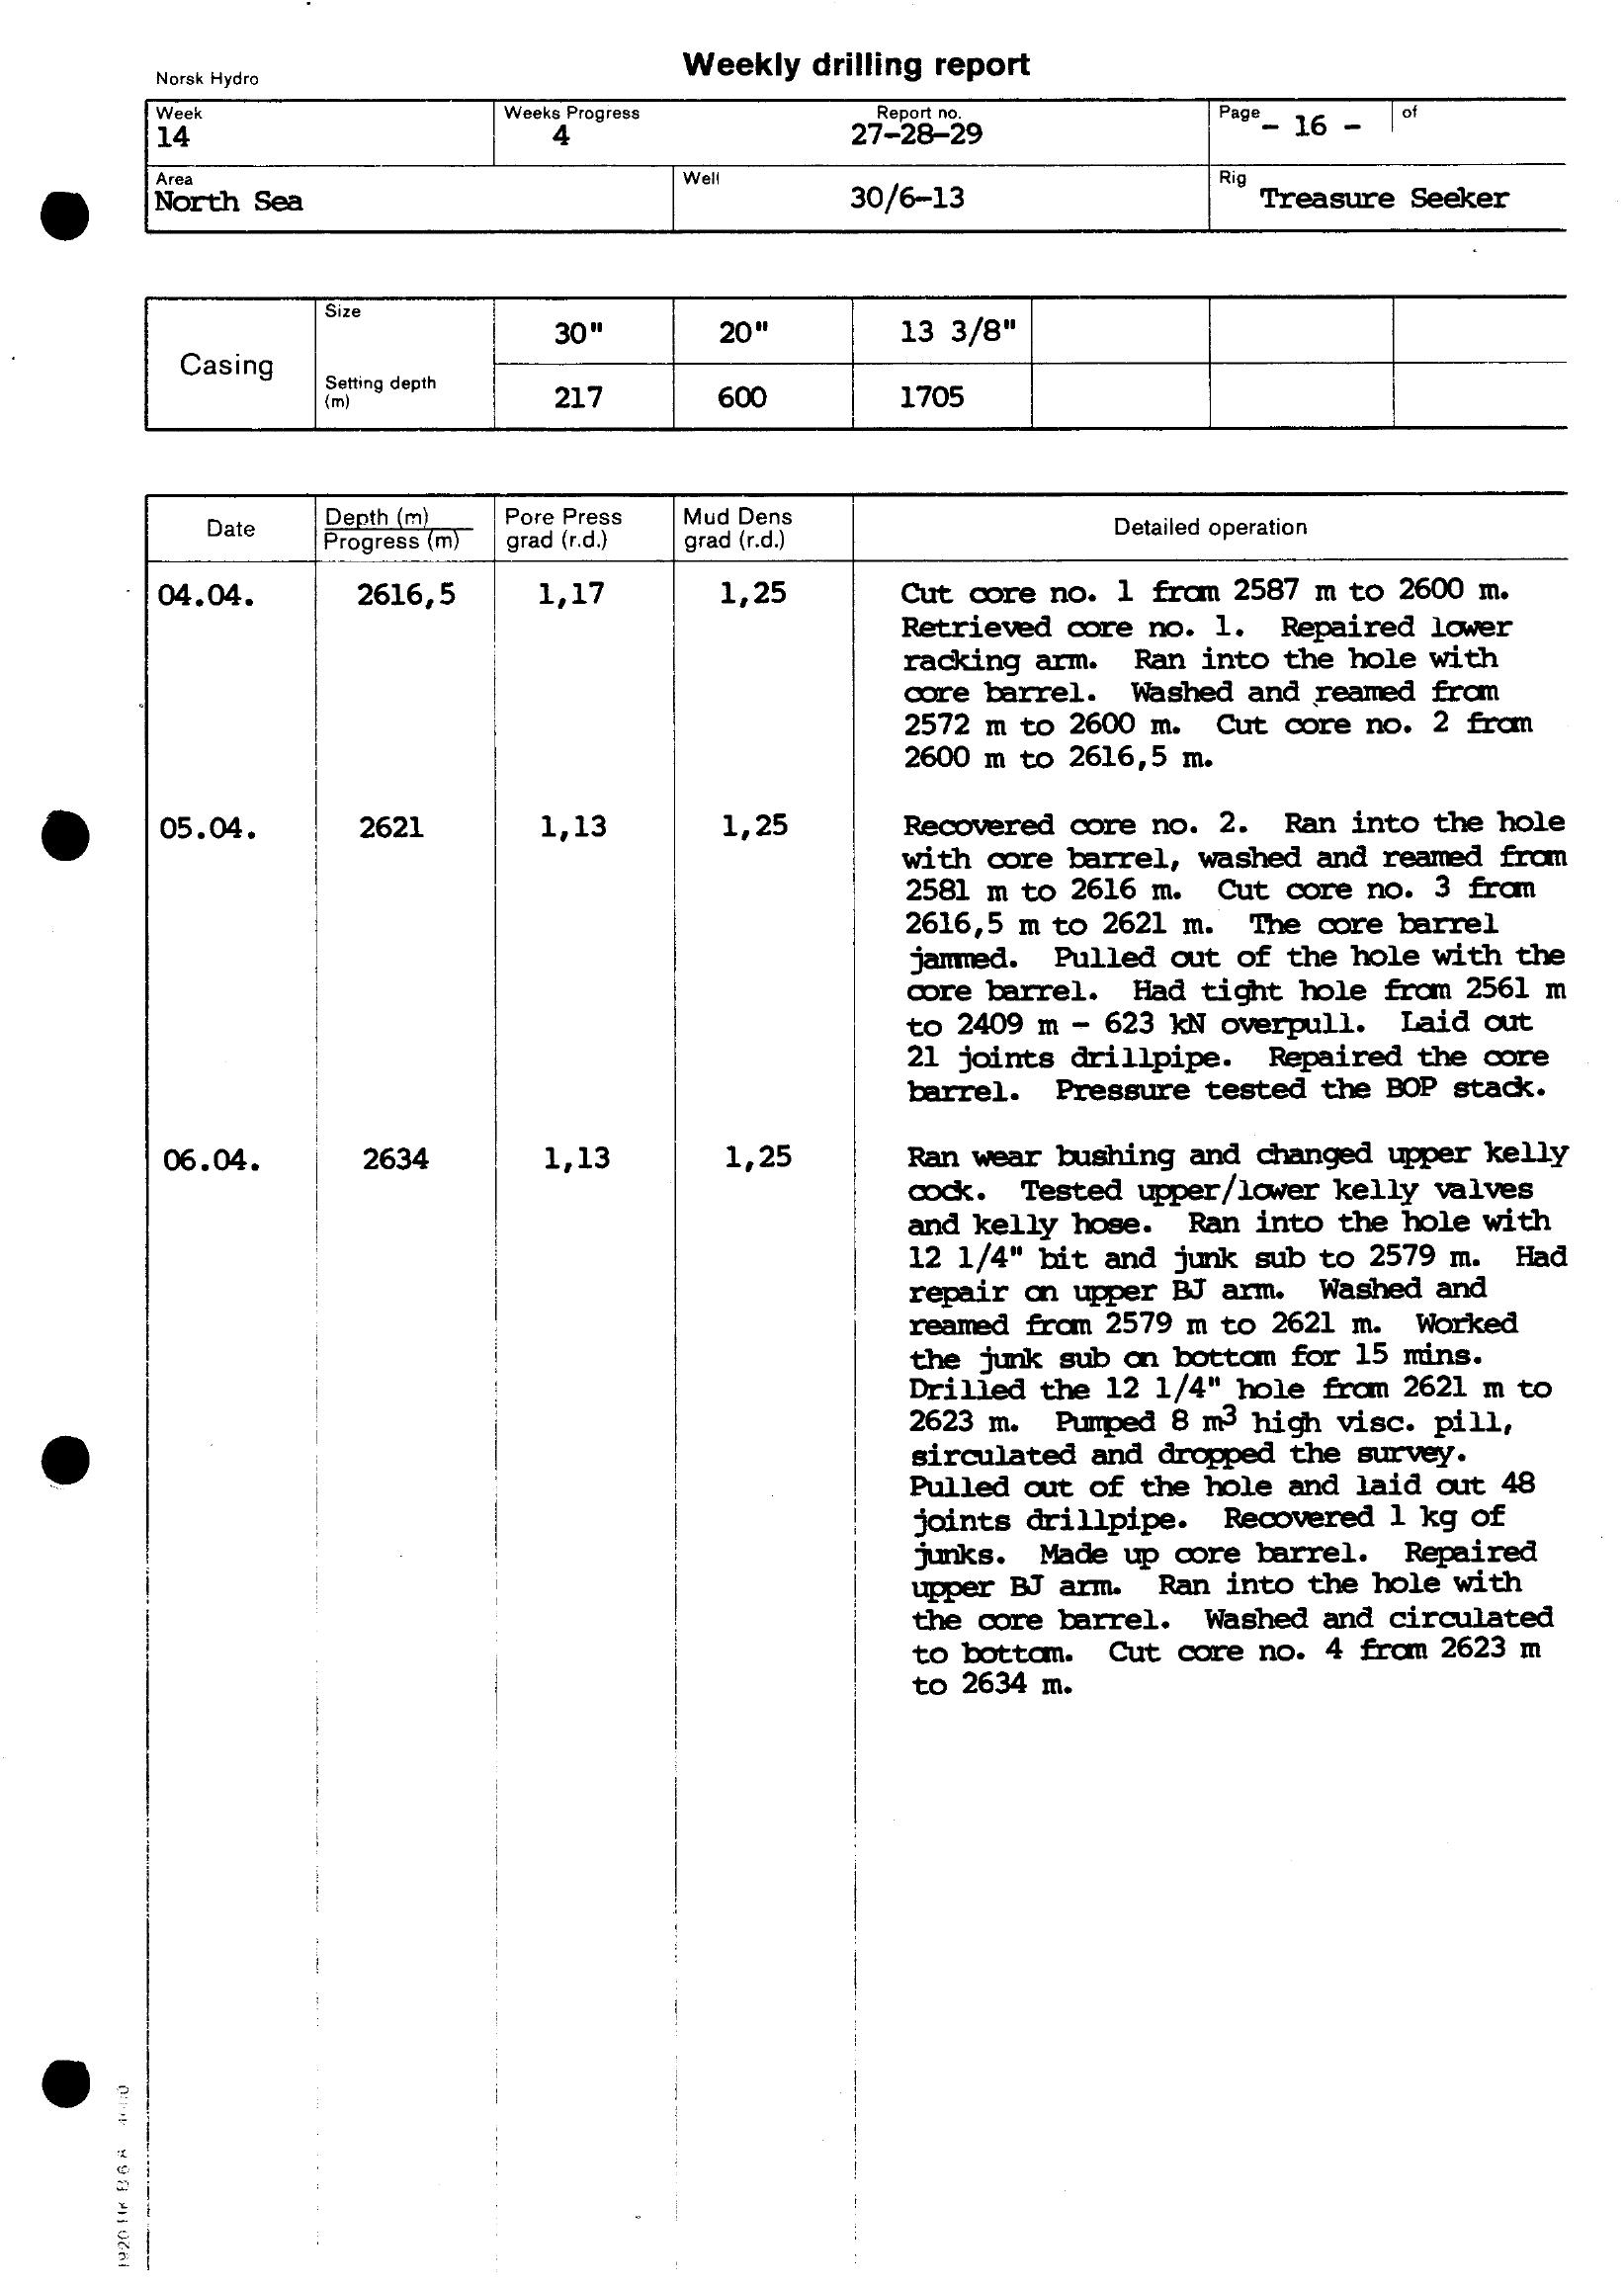graph: (137, 86, 1624, 1713)
text: (677, 44, 1037, 90)
